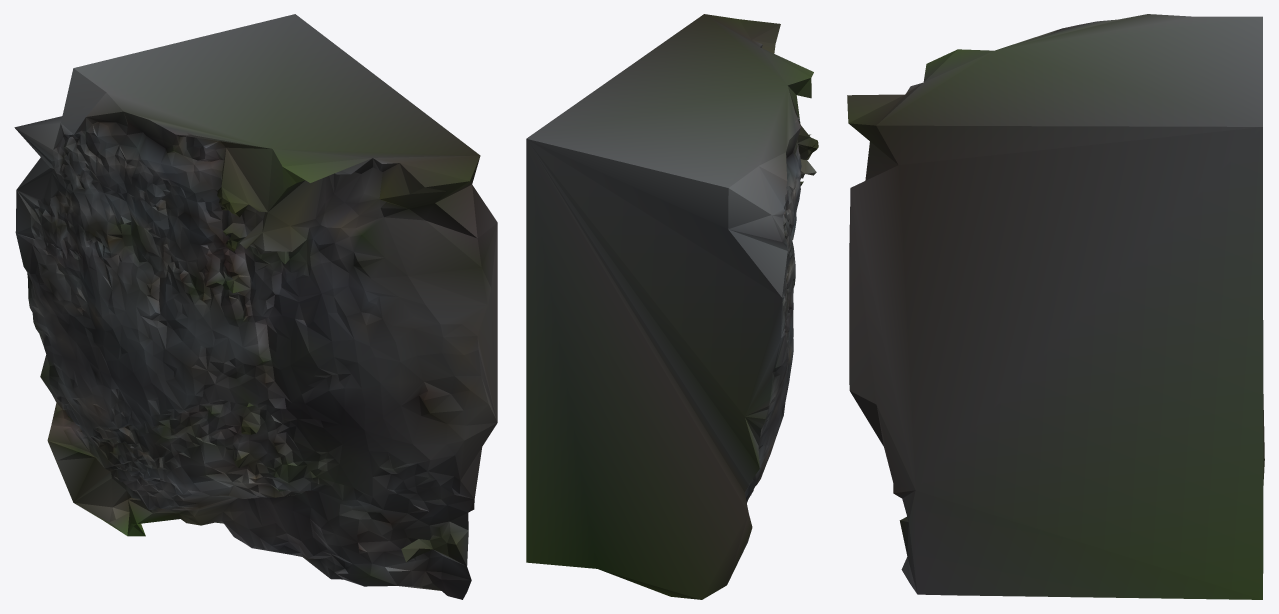
File: ornberget_low.fbx
3 views of the same model, side by side, from view 1: azimuth 30°, elevation 25°; view 2: azimuth 150°, elevation 25°; view 3: azimuth 270°, elevation 25° (orthographic). The views are drawn at different scales.
Visible parts, largest first — view 1: ornberget-v1; view 2: ornberget-v1; view 3: ornberget-v1.
Part boxes in pixels (box(x1,y1,x2,y2)): ornberget-v1: box(14, 14, 497, 599); ornberget-v1: box(526, 14, 818, 599); ornberget-v1: box(847, 14, 1264, 599).
Size of the model in its own units: 3197 by 5054 by 4045.
